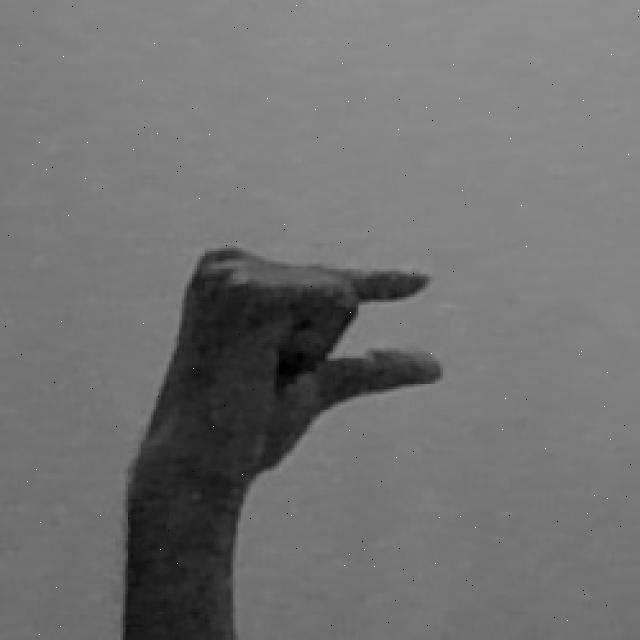G: (120, 240, 444, 640)
